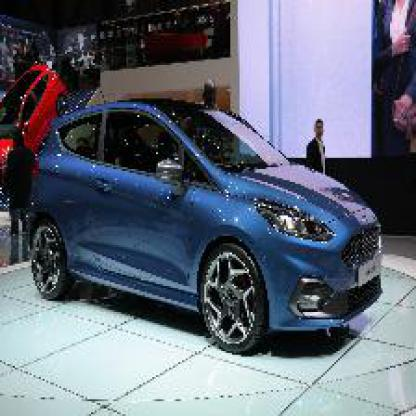not_emergency: (22, 102, 394, 349)
